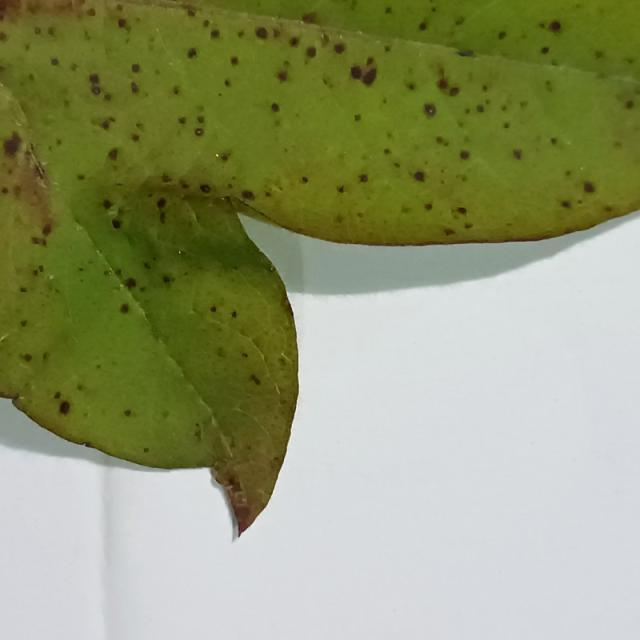Bacterial_Blight: (51, 385, 80, 424), (3, 131, 22, 158), (227, 477, 243, 497), (115, 299, 136, 314), (361, 67, 377, 86), (33, 159, 46, 180), (13, 396, 29, 413), (235, 504, 250, 522), (31, 235, 47, 247), (301, 12, 317, 24), (255, 26, 268, 39), (548, 20, 562, 32), (350, 65, 362, 79), (124, 277, 137, 289), (107, 148, 119, 161), (582, 181, 595, 193), (305, 46, 317, 59), (333, 42, 346, 54), (423, 104, 436, 116), (88, 73, 100, 85), (321, 76, 333, 88), (41, 223, 52, 236), (250, 374, 261, 386), (277, 70, 288, 82), (413, 171, 425, 182), (156, 197, 167, 209), (187, 47, 198, 59), (437, 78, 448, 90), (241, 190, 254, 200), (320, 33, 330, 46), (271, 457, 281, 470), (456, 50, 474, 57), (102, 199, 113, 210), (117, 18, 128, 29), (435, 136, 447, 146), (400, 204, 412, 214), (459, 150, 470, 160), (512, 149, 522, 160), (161, 173, 172, 183), (289, 36, 299, 47), (186, 8, 197, 18), (216, 347, 226, 358), (130, 82, 139, 94), (199, 184, 211, 193), (195, 428, 203, 441), (270, 102, 280, 112), (111, 219, 121, 229), (449, 87, 459, 97), (625, 100, 635, 110), (210, 29, 220, 39), (91, 85, 101, 95), (278, 356, 288, 366), (456, 206, 467, 215), (47, 26, 56, 37), (624, 56, 635, 65), (23, 354, 33, 363), (358, 174, 368, 183), (162, 275, 172, 284), (230, 56, 239, 66), (220, 152, 230, 161), (131, 63, 140, 73), (540, 46, 550, 55), (561, 200, 571, 209), (101, 120, 110, 130), (194, 128, 204, 137), (418, 21, 427, 31), (594, 50, 604, 59), (87, 7, 96, 17), (334, 214, 344, 223), (444, 228, 455, 236), (454, 17, 465, 25), (131, 133, 140, 142), (178, 116, 187, 125), (196, 115, 205, 124), (498, 31, 507, 40), (50, 57, 59, 66), (407, 82, 416, 91), (143, 262, 152, 271), (337, 185, 345, 194), (172, 86, 180, 95), (385, 6, 393, 15), (604, 206, 614, 213), (124, 409, 132, 417), (20, 319, 28, 327), (476, 105, 484, 113), (550, 137, 558, 145), (1, 186, 9, 194), (424, 203, 433, 210), (54, 391, 61, 400), (354, 113, 361, 122), (224, 78, 231, 87), (76, 174, 85, 181), (28, 73, 35, 82), (301, 176, 309, 183), (19, 286, 27, 293), (465, 223, 474, 229), (210, 306, 217, 313), (231, 311, 237, 319), (241, 352, 249, 358), (269, 265, 274, 273), (143, 447, 149, 453), (78, 267, 84, 272)
Cotton: (0, 0, 639, 532)
